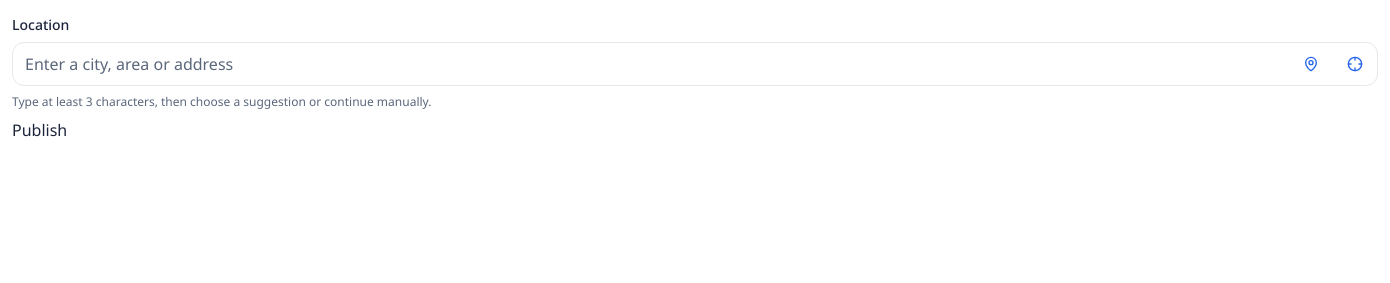
it: selects with arrow keys and Enter without publishing, passing precise coordinates and city tag
Step 1. Type "Ath" into the dropdown → point(695, 64), box [12, 42, 1378, 86]
Wait 350 ms
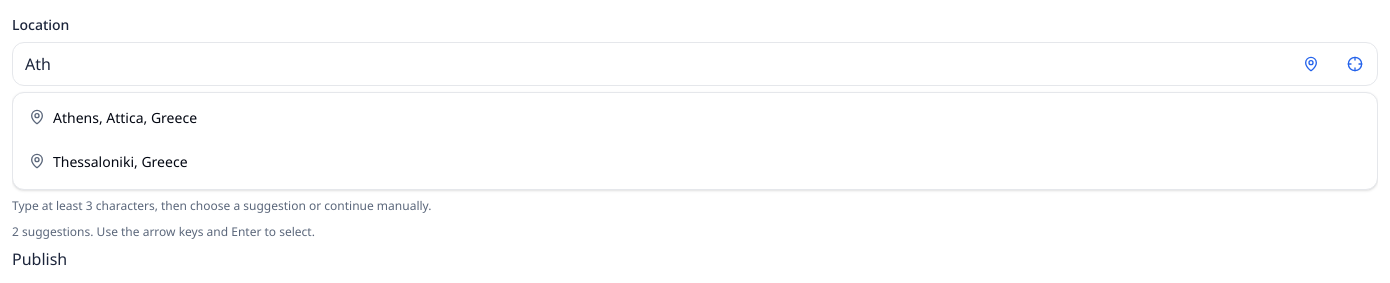
Step 2. Press ArrowDown in the dropdown, box [12, 42, 1378, 86]
Step 3. Press Enter in the dropdown, box [12, 42, 1378, 86]
Wait 350 ms
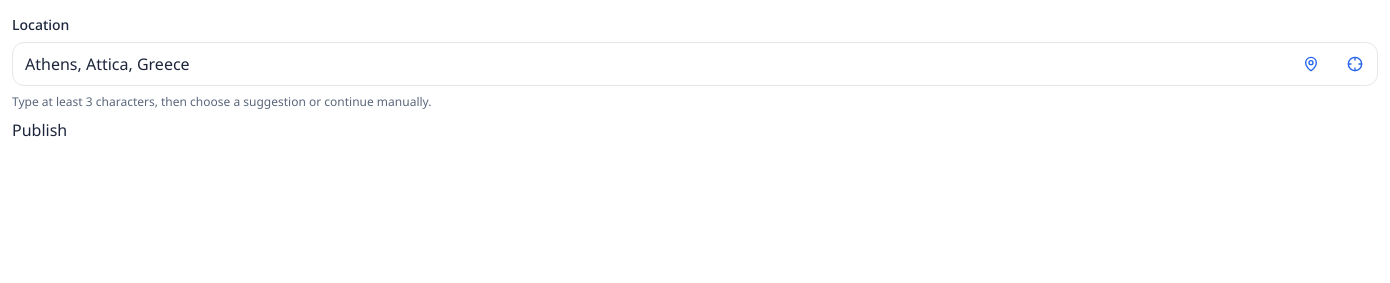
Result: the dropdown holds "Athens, Attica, Greece" at [12, 42, 1378, 86]
Result: the dropdown is collapsed at [12, 42, 1378, 86]
